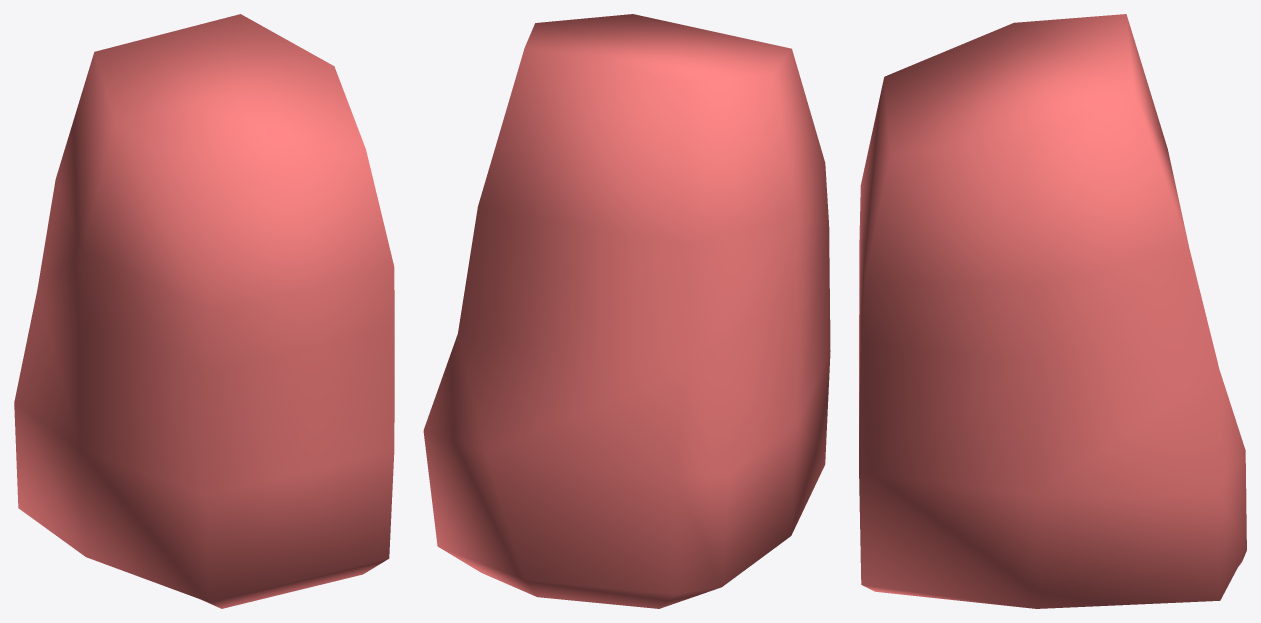
Rendered from Rock08.fbx.
3 renders of one model, left to right at view 1: azimuth 30°, elevation 25°; view 2: azimuth 150°, elevation 25°; view 3: azimuth 270°, elevation 25°, orthographic. The views are drawn at different scales.
Visible parts, largest first — view 1: Low_Rock08; view 2: Low_Rock08; view 3: Low_Rock08.
Part boxes in pixels (box(x1,y1,x2,y2)): Low_Rock08: box(14, 14, 394, 608); Low_Rock08: box(423, 14, 830, 608); Low_Rock08: box(859, 14, 1246, 608).
Size of the model in its own units: 325 by 529 by 366.
